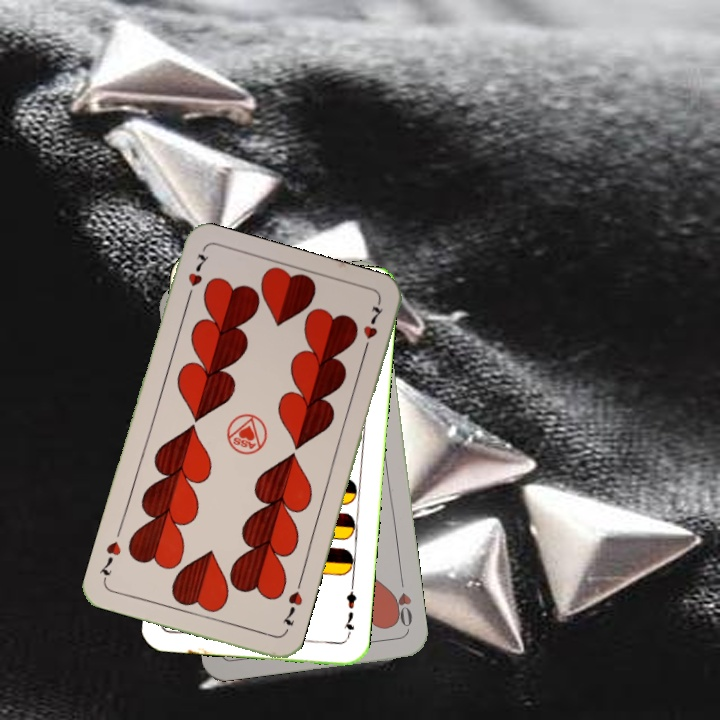E7: (339, 581, 359, 640)
H7: (182, 249, 212, 305), (278, 587, 305, 628)
HO: (387, 572, 415, 632)
